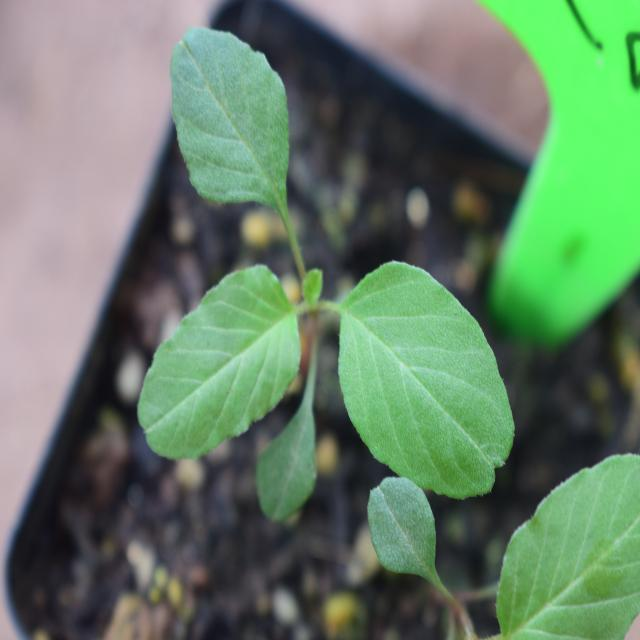pigweed: (159, 22, 514, 506)
